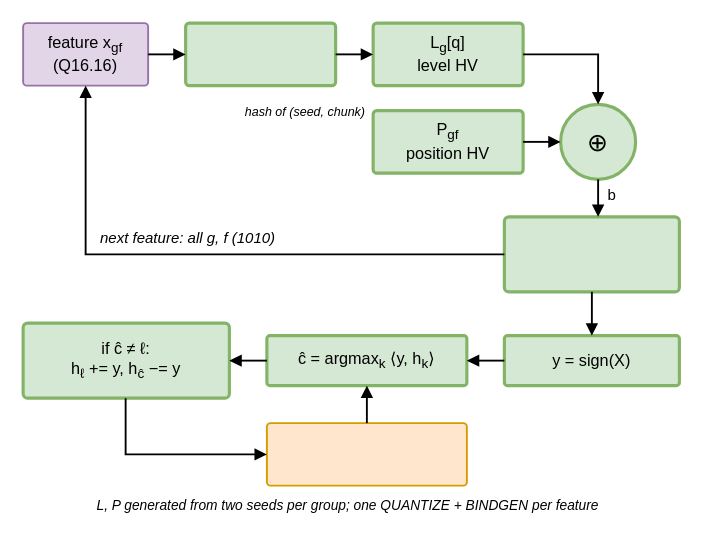
The diagram is 703 pixels wide and 541 high, and some of its shapes have lost their labels. The shapes that lost their labels are listed below. From the top down, each one's centre as x and y in pixels, then its label:
the point at 260,54: quantize q ∈ [0, n g )
the point at 591,254: X += w g · b W-bit, saturating
the point at 366,454: prototypes h 1 … h K (wide SPM)
